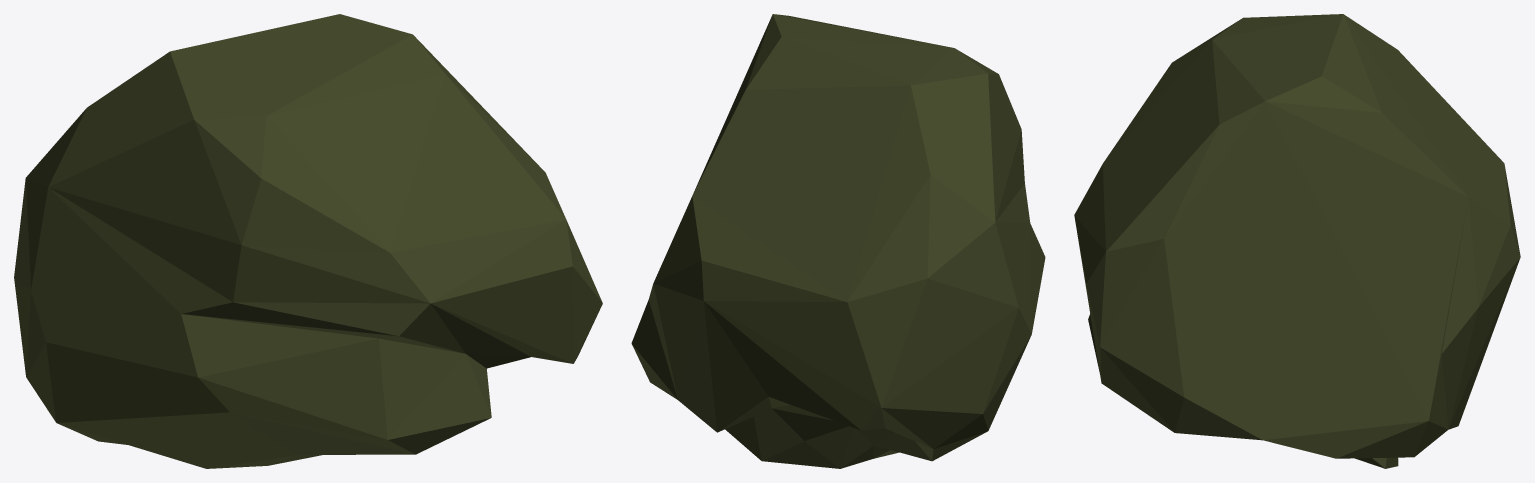
File: SM_small_rock_09.fbx
3 renders of one model, left to right at view 1: azimuth 30°, elevation 25°; view 2: azimuth 150°, elevation 25°; view 3: azimuth 270°, elevation 25°, orthographic. The views are drawn at different scales.
Parts seen in each view (by area): view 1: small_rock_09; view 2: small_rock_09; view 3: small_rock_09.
Part boxes in pixels (<box>): small_rock_09: <box>14,14,602,468</box>; small_rock_09: <box>631,14,1045,468</box>; small_rock_09: <box>1074,14,1520,468</box>.
Bounding box in the file's own units: 15.24 × 14.13 × 14.34.
